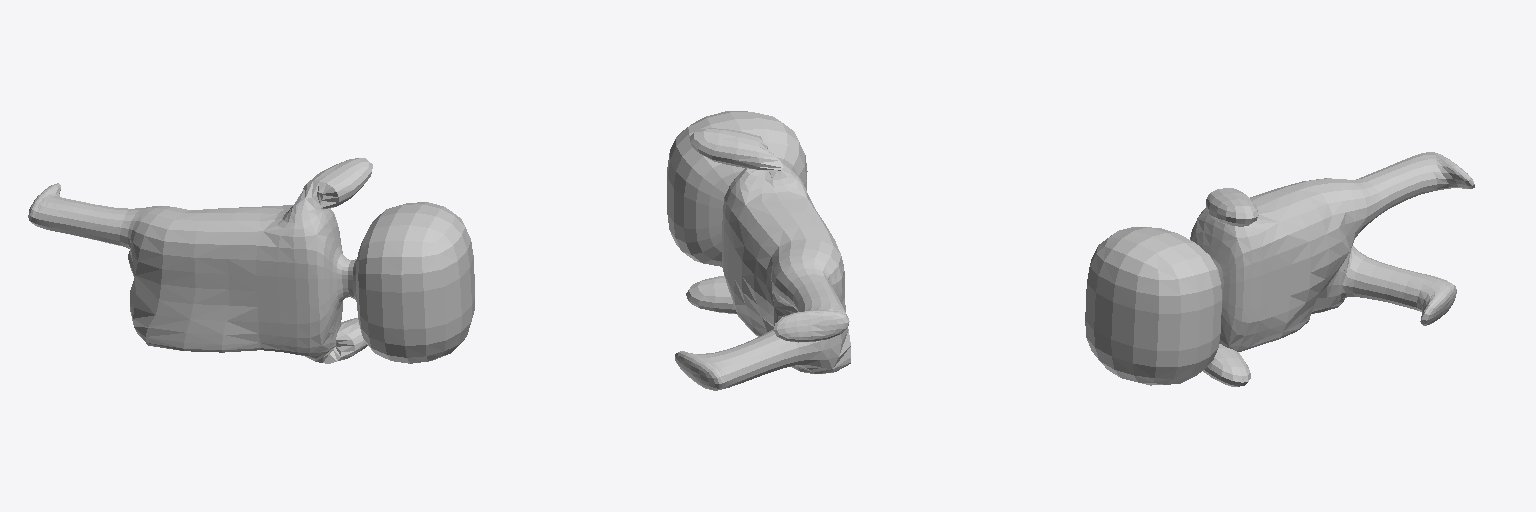
Rendered from antman_push_2.obj.
3 views of the same model, side by side, from view 1: azimuth 30°, elevation 25°; view 2: azimuth 150°, elevation 25°; view 3: azimuth 270°, elevation 25° (orthographic).
Parts seen in each view (by area): view 1: Cube; view 2: Cube; view 3: Cube.
Part boxes in pixels (bbox=[...]): Cube: bbox=[28, 158, 474, 363]; Cube: bbox=[667, 111, 850, 390]; Cube: bbox=[1085, 152, 1474, 386].
Bounding box in the file's own units: 1.48 × 0.8339 × 1.62.